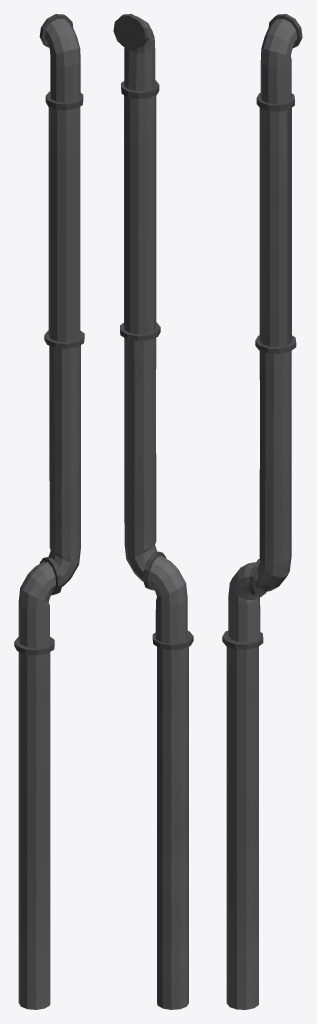
The model's file is pipes_withUVS_1ish.fbx.
3 renders of one model, left to right at view 1: azimuth 30°, elevation 25°; view 2: azimuth 150°, elevation 25°; view 3: azimuth 330°, elevation 25°, orthographic.
Parts seen in each view (by area): view 1: Cylinder.002, Cylinder, Cylinder.001, Cylinder.004, Cylinder.003; view 2: Cylinder.002, Cylinder, Cylinder.001, Cylinder.004, Cylinder.003; view 3: Cylinder.002, Cylinder, Cylinder.001, Cylinder.003, Cylinder.004.
Part boxes in pixels (x1,y1,x2,y2): Cylinder.002: (14,636,54,1009); Cylinder: (44,91,84,348); Cylinder.001: (48,345,80,586); Cylinder.004: (18,557,62,647); Cylinder.003: (39,14,80,102); Cylinder.002: (152,631,193,1009); Cylinder: (120,80,160,341); Cylinder.001: (124,338,157,581); Cylinder.004: (143,551,187,643); Cylinder.003: (113,14,155,90); Cylinder.002: (222,630,263,1009); Cylinder: (255,93,296,353); Cylinder.001: (255,350,291,592); Cylinder.003: (260,14,302,104); Cylinder.004: (228,559,266,642).
Bounding box in the file's own units: 105 × 1482 × 59.28.
